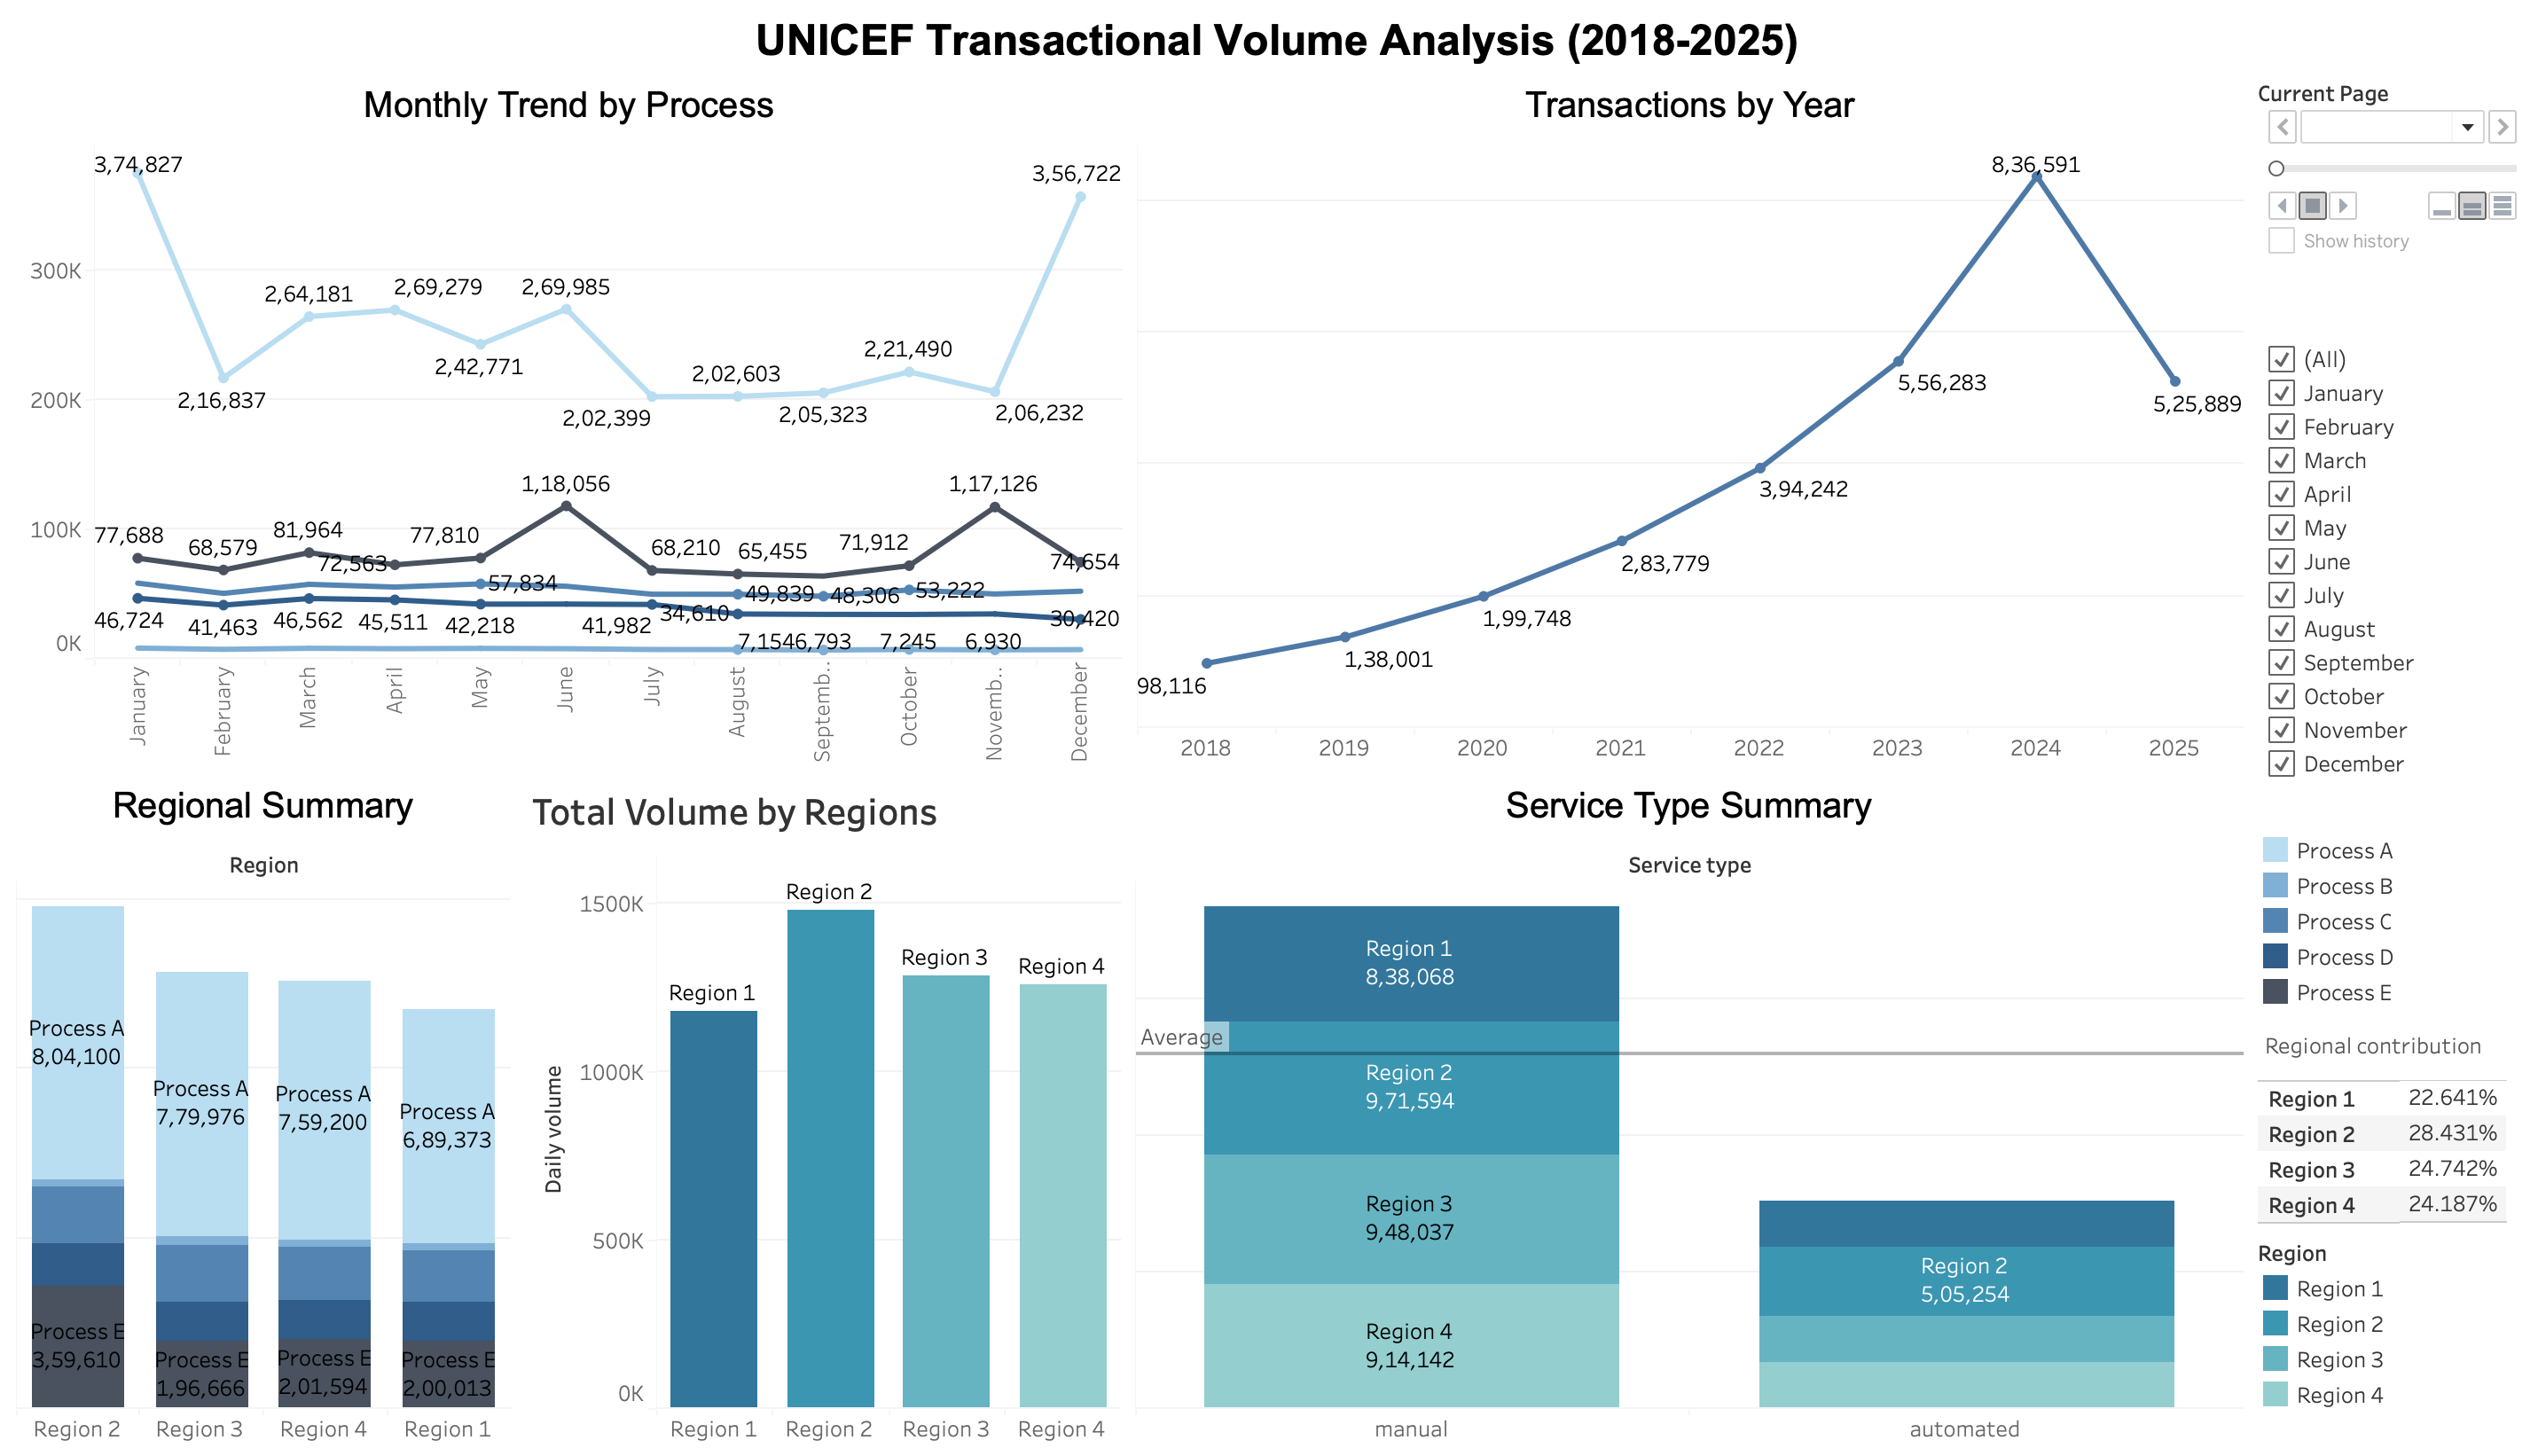

What the dashboard file says about the page in this screenshot:
{"tool":"tableau","page":{"name":"Main Dashboard ","canvas":[1000,1000],"units":"permille","ordinal":1},"visuals":[{"type":"title","box":[6.5,12.3,987,53.9]},{"type":"worksheet","title":"Monthly trend","mark":"Automatic","rows":["Daily volume"],"cols":["Day"],"box":[6.5,66.3,428.4,467.7]},{"type":"worksheet","title":"volume by years","mark":"Automatic","rows":["Daily volume"],"cols":["Day"],"box":[434.9,66.3,428.4,467.7]},{"type":"currpage","title":"Monthly trend","box":[863.3,66.3,130.2,197.2]},{"type":"filter","title":"Monthly trend","param":"[federated.1ozi6d60c2634f1erwxds0eqxqzp].[mn:Day:ok]","box":[863.3,263.5,130.2,187.2]},{"type":"legend","title":"Monthly trend","param":"[federated.1ozi6d60c2634f1erwxds0eqxqzp].[none:Process:nk]","box":[863.3,450.7,130.2,187.2]},{"type":"worksheet","title":"regional summary","mark":"Automatic","rows":["Daily volume"],"cols":["Region"],"box":[6.5,534,194.8,453.7]},{"type":"worksheet","title":"Total Volume by Regions","mark":"Automatic","rows":["Service type","Daily volume"],"cols":["Region"],"box":[201.3,534,233.2,453.7]},{"type":"worksheet","title":"service type summary","mark":"Automatic","rows":["Daily volume"],"cols":["Service type"],"box":[434.5,534,428.8,453.7]},{"type":"worksheet","title":"Regional contribution","mark":"Automatic","rows":["Region"],"box":[863.3,637.9,130.2,186.4]},{"type":"legend","title":"service type summary","param":"[federated.1ozi6d60c2634f1erwxds0eqxqzp].[none:Region:nk]","box":[863.3,824.3,130.2,163.3]}]}

Visuals, with their boxes on the dashboard's canvas, which has no fixed pixel size, in thousandths of its width and height (x1, y1, x2, y2). These are canvas units, not pixel positions in the 2538x1456 screenshot, which may show the page scaled, cropped or inside an application window:
title: (x1=6, y1=12, x2=994, y2=66)
"Monthly trend" worksheet: (x1=6, y1=66, x2=435, y2=534)
"volume by years" worksheet: (x1=435, y1=66, x2=863, y2=534)
"Monthly trend" currpage: (x1=863, y1=66, x2=994, y2=264)
"Monthly trend" filter: (x1=863, y1=264, x2=994, y2=451)
"Monthly trend" legend: (x1=863, y1=451, x2=994, y2=638)
"regional summary" worksheet: (x1=6, y1=534, x2=201, y2=988)
"Total Volume by Regions" worksheet: (x1=201, y1=534, x2=434, y2=988)
"service type summary" worksheet: (x1=434, y1=534, x2=863, y2=988)
"Regional contribution" worksheet: (x1=863, y1=638, x2=994, y2=824)
"service type summary" legend: (x1=863, y1=824, x2=994, y2=988)
